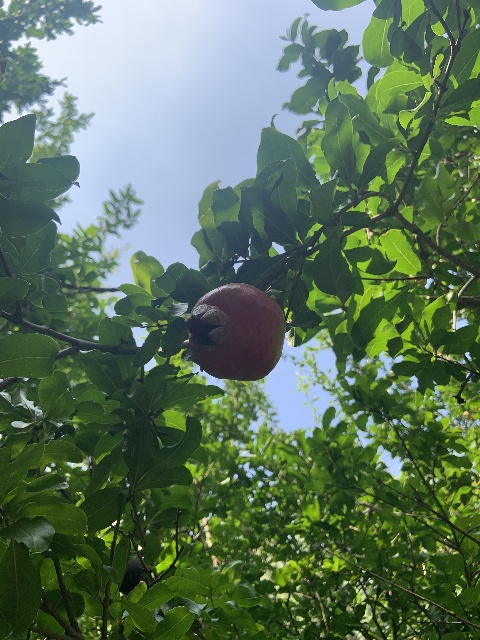ripe: (186, 282, 286, 380)
